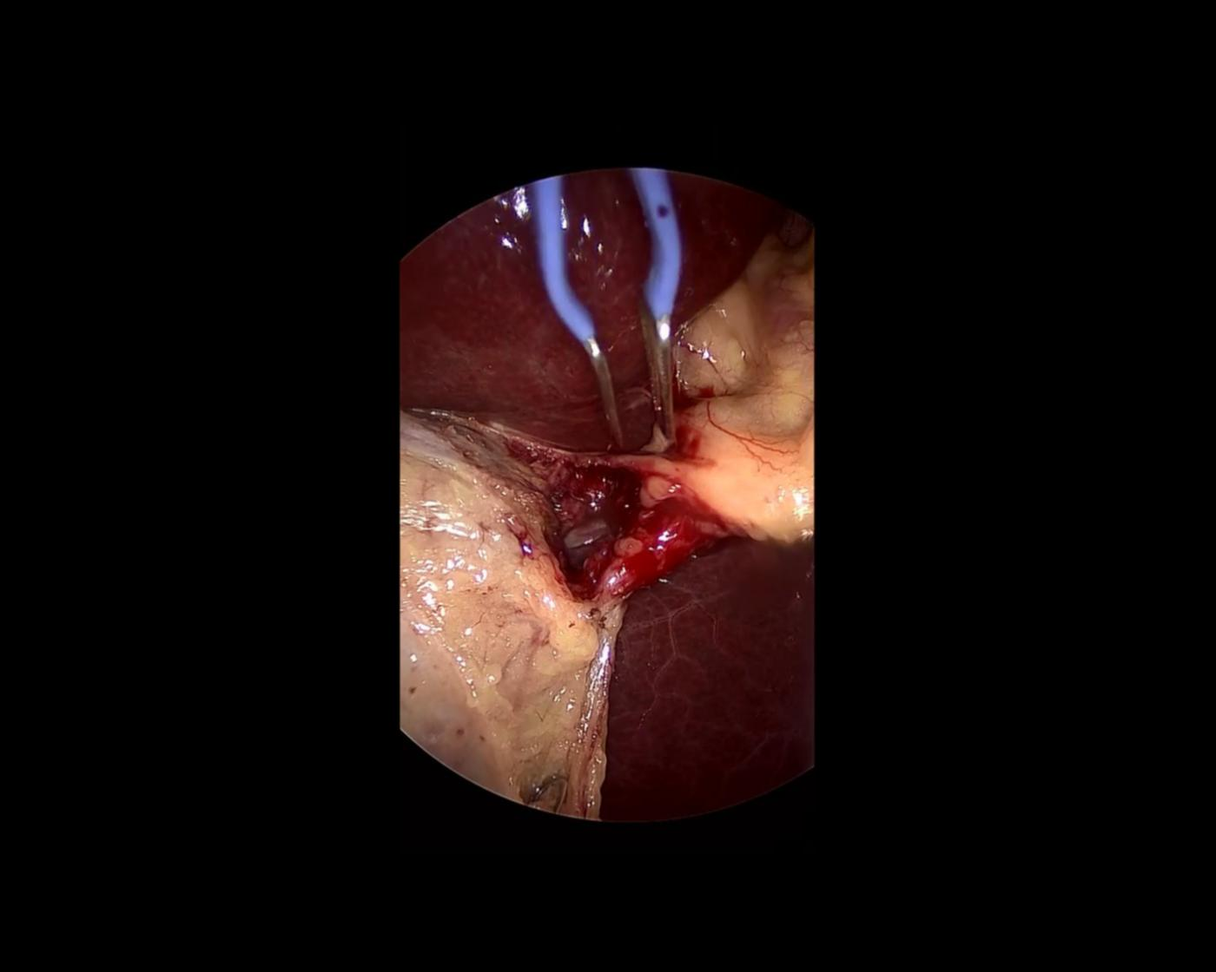Allis: (519, 174, 630, 459), (618, 168, 685, 445)
Gallbladder: (402, 408, 613, 816)
Liver: (383, 150, 786, 471), (600, 527, 817, 820)
